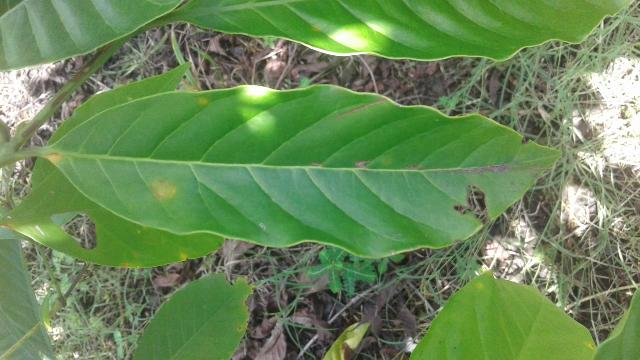rust_level_1: (45, 82, 561, 258)
